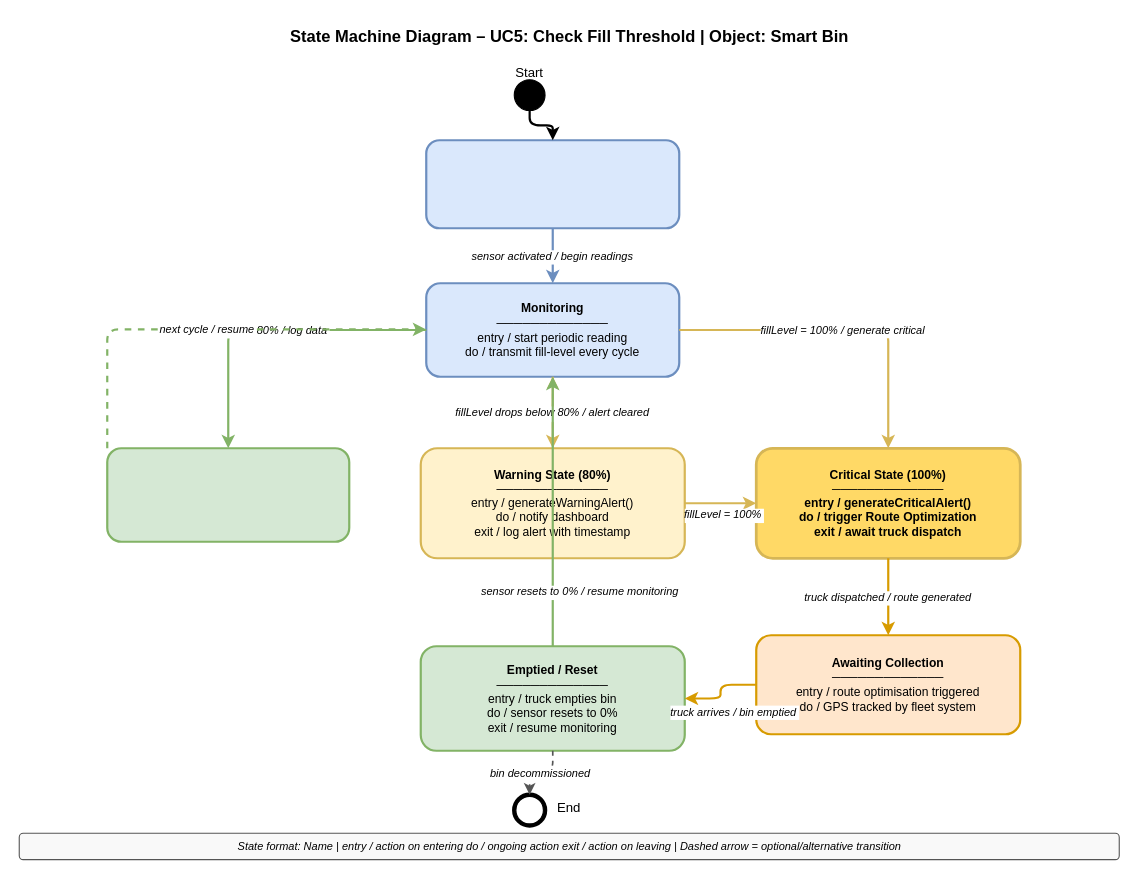
This 1139x879 diagram has some shape labels left out. The shapes that lost their labels are listed below. From the top down, each one's box as (x1, y1, x2, y2) in pixels, then its label:
(425, 139, 680, 229): Idle ───────────── entry / sensor initialised do / await fill-level reading
(106, 447, 350, 542): Below Threshold ───────────── entry / log reading to DB do / no alert generated
